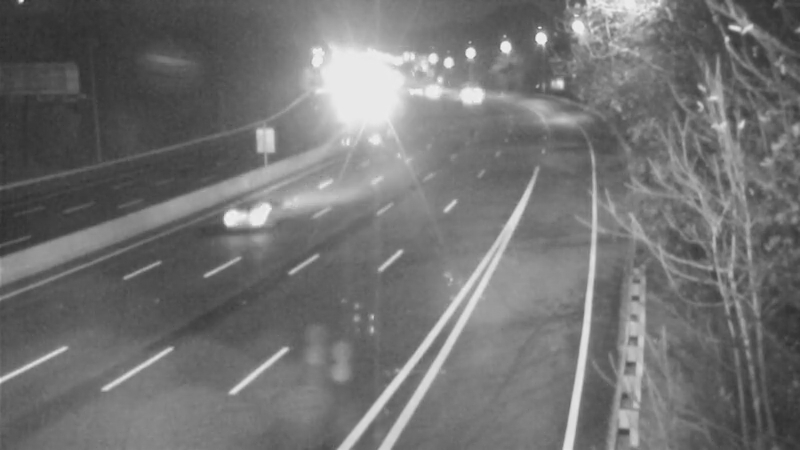vehicle: (195, 174, 275, 254)
